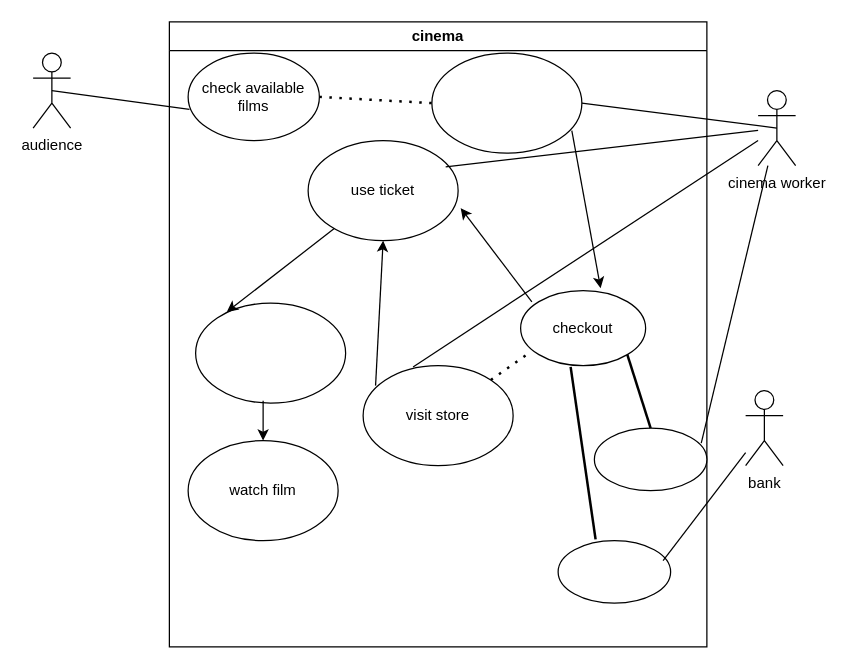
The diagram is 848 pixels wide and 669 high, and some of its shapes have lost their labels. Here are the shapes that lost their labels. From the top down, the centre of each, then its label:
At point 506,102: "choose place".
At point 270,352: "take your seat".
At point 650,459: "cash".
At point 614,571: "card".
